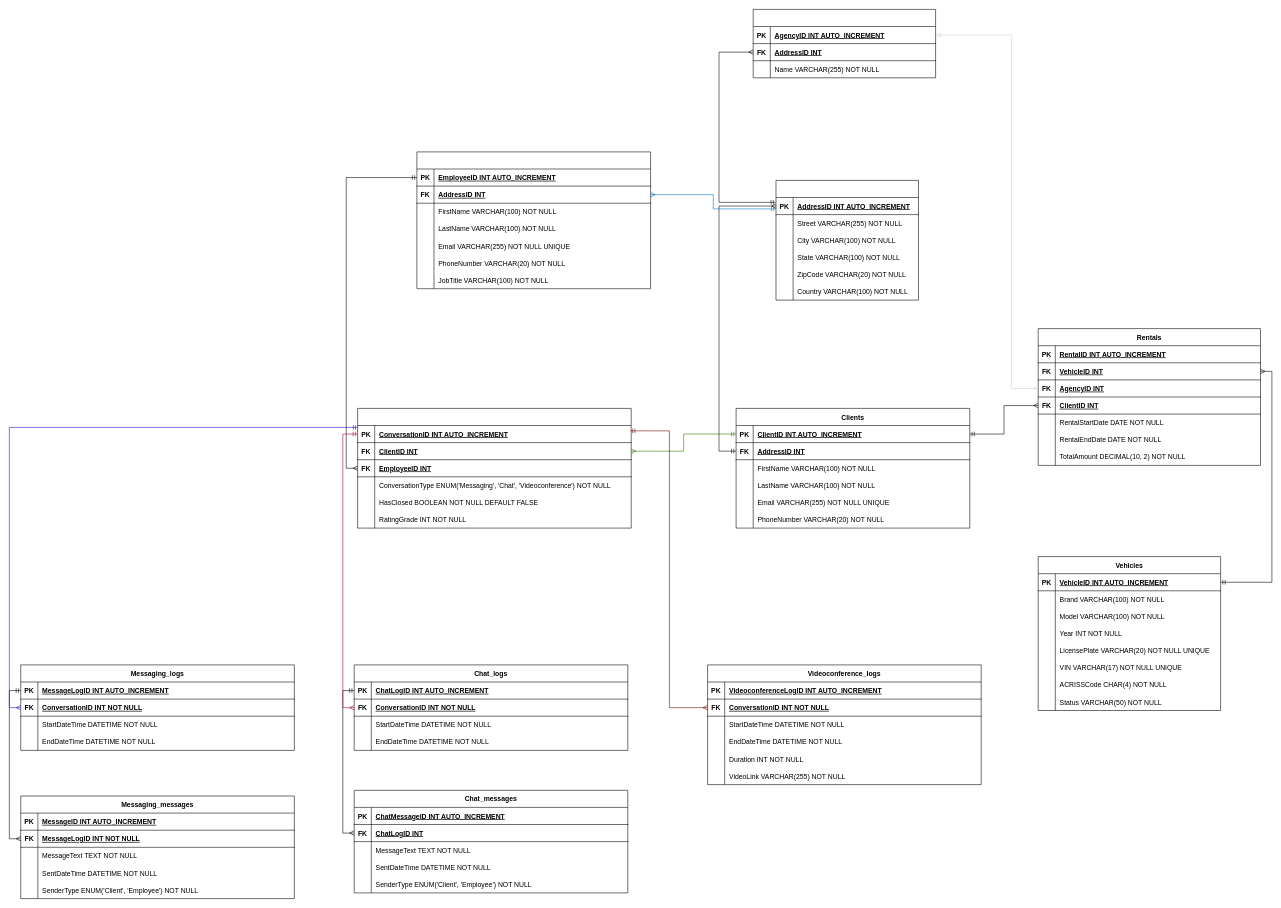
The diagram is 1281 pixels wide and 908 high, and some of its shapes have lost their labels. Here are the shapes that lost their labels. From the top down, the box of each, then its label:
(753, 9, 936, 78): Agencies
(416, 151, 651, 289): Employees
(775, 180, 918, 300): Addresses
(357, 408, 631, 528): Conversations
